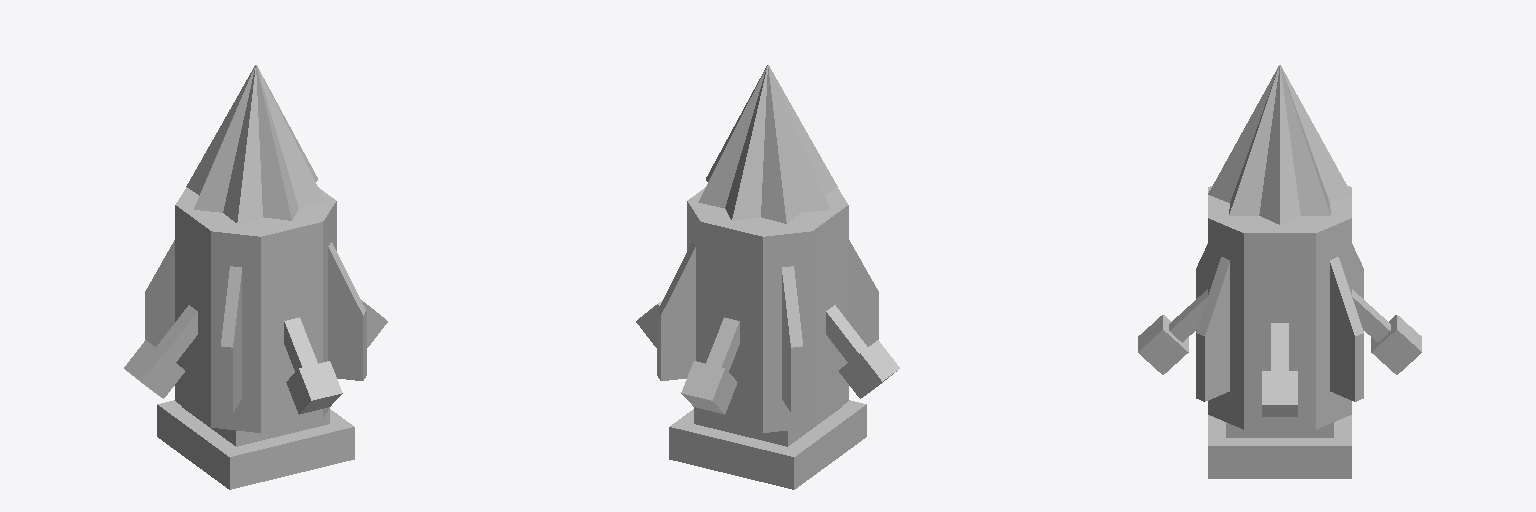
The model's file is tunneler.obj.
The picture shows the model from 3 angles: view 1: azimuth 30°, elevation 25°; view 2: azimuth 150°, elevation 25°; view 3: azimuth 270°, elevation 25°; orthographic projection.
Visible parts, largest first — view 1: Body, Drill; view 2: Body, Drill; view 3: Body, Drill.
Boxes of the visible parts, x1,y1,x2,y2 form: Body: [124, 187, 387, 489]; Drill: [186, 65, 325, 223]; Body: [636, 187, 899, 489]; Drill: [698, 65, 837, 223]; Body: [1138, 186, 1421, 478]; Drill: [1208, 65, 1351, 224].
Size of the model in its own units: 1.97 by 2.94 by 1.97.